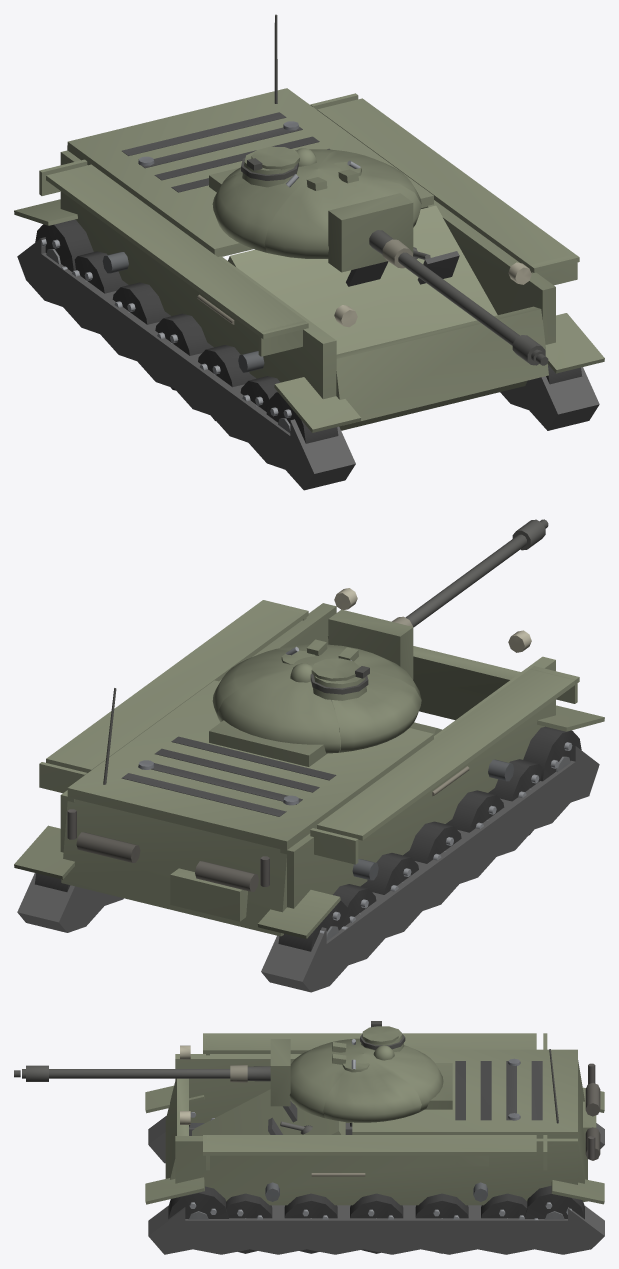
3 views of the same model, one above another, from view 1: azimuth 30°, elevation 25°; view 2: azimuth 150°, elevation 25°; view 3: azimuth 270°, elevation 25° (orthographic). The views are drawn at different scales.
Parts seen in each view (by area): view 1: hullSide, tracks, hullTop, glacis, lowerPlate, turretFront, turretSide, mantlet, barrel, turretRoof, wheel6, wheel2 (+6 smaller); view 2: hullSide, hullTop, tracks, hullRear, turretRear, turretSide, lowerPlate, mantlet, turretRoof, barrel, wheel5, wheel3 (+6 smaller); view 3: hullSide, tracks, hullTop, turretSide, glacis, barrel, turretFront, turretRear, hullRear, turretRoof, lowerPlate, mantlet (+7 smaller).
Part boxes in pixels (x1,y1,x2,y2): hullSide: (39, 93, 579, 399); tracks: (14, 199, 604, 490); hullTop: (67, 88, 433, 256); glacis: (228, 205, 527, 430); lowerPlate: (336, 306, 548, 420); turretFront: (264, 169, 421, 258); turretSide: (212, 150, 421, 252); mantlet: (328, 193, 413, 272); barrel: (369, 230, 548, 365); turretRoof: (241, 146, 361, 190); wheel6: (35, 219, 93, 271); wheel2: (155, 313, 213, 390); hullSide: (39, 588, 579, 908); hullTop: (67, 680, 433, 850); tracks: (14, 700, 604, 992); hullRear: (61, 688, 287, 936); turretRear: (209, 665, 340, 766); turretSide: (212, 649, 421, 752); lowerPlate: (327, 635, 520, 720); mantlet: (328, 609, 413, 679); turretRoof: (281, 639, 369, 700); barrel: (392, 519, 548, 627); wheel5: (523, 726, 581, 781); wheel3: (445, 790, 504, 832); hullSide: (175, 1033, 577, 1205); tracks: (145, 1085, 604, 1254); hullTop: (352, 1049, 577, 1138); turretSide: (323, 1038, 421, 1122); glacis: (192, 1089, 345, 1135); barrel: (14, 1065, 270, 1082); turretFront: (289, 1042, 362, 1117); turretRear: (364, 1047, 452, 1111); hullRear: (549, 1049, 600, 1201); turretRoof: (332, 1021, 405, 1072); lowerPlate: (165, 1078, 188, 1179); mantlet: (270, 1039, 290, 1106).
Bounding box in the file's own units: 4.18 × 3.02 × 8.8.
